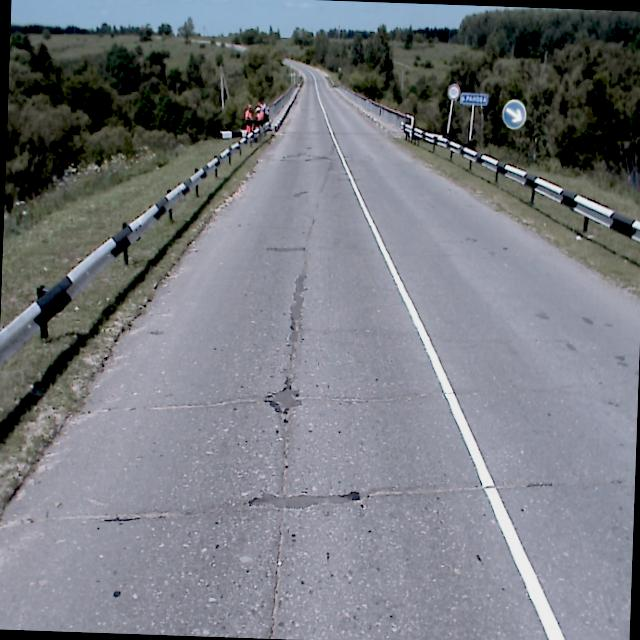road: (0, 59, 640, 640)
